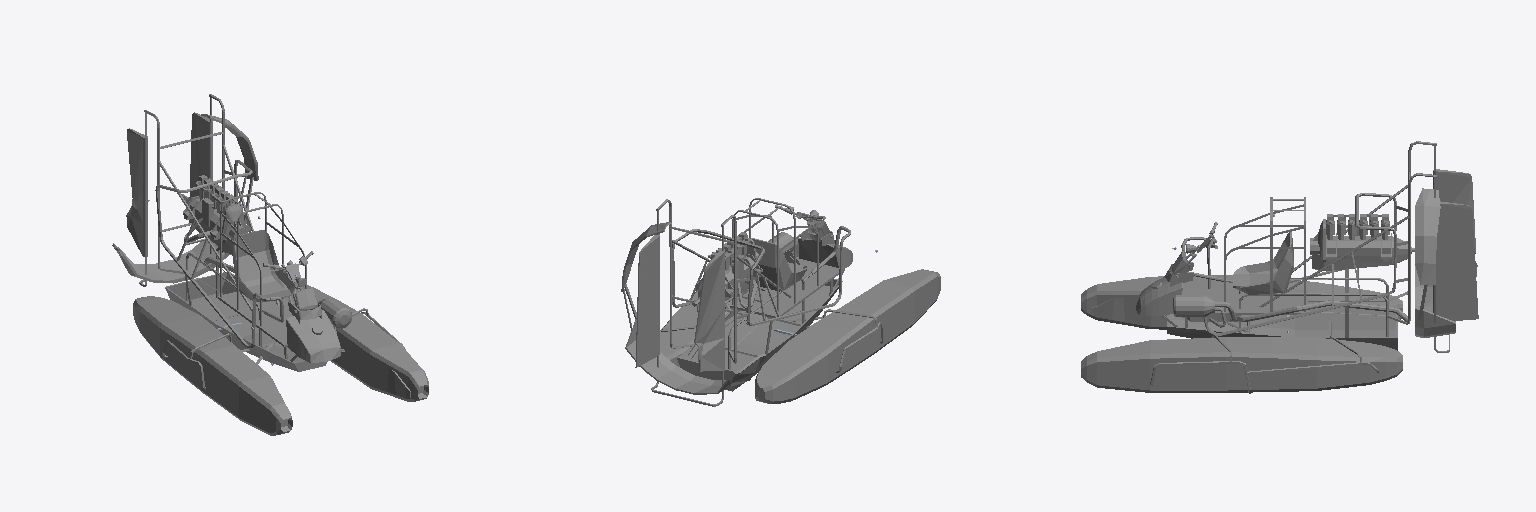
Rendered from chuan.obj.
3 views of the same model, side by side, from view 1: azimuth 30°, elevation 25°; view 2: azimuth 150°, elevation 25°; view 3: azimuth 270°, elevation 25° (orthographic).
Visible parts, largest first — view 1: smdimport; view 2: smdimport; view 3: smdimport.
Boxes of the visible parts, <box> form: smdimport: <box>112,94,428,435</box>; smdimport: <box>621,198,940,406</box>; smdimport: <box>1081,141,1478,393</box>.
Size of the model in its own units: 89.43 by 94.66 by 172.